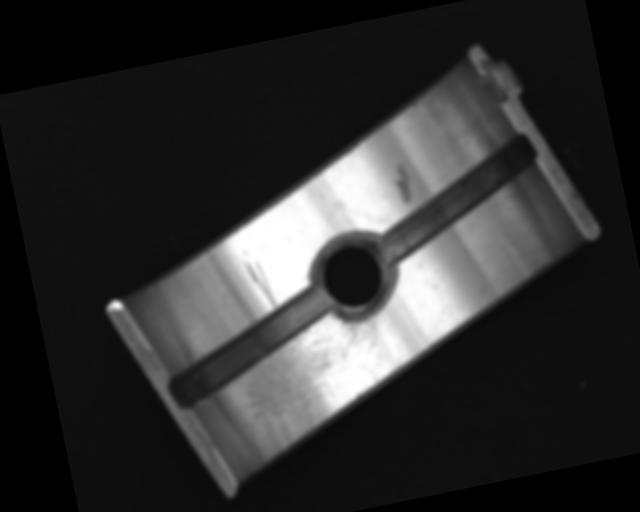bruise: (390, 160, 419, 206)
gap: (357, 132, 553, 268), (155, 286, 342, 410)
hole: (307, 229, 402, 323)
nick: (244, 257, 278, 314)
scratch: (227, 305, 414, 468)
